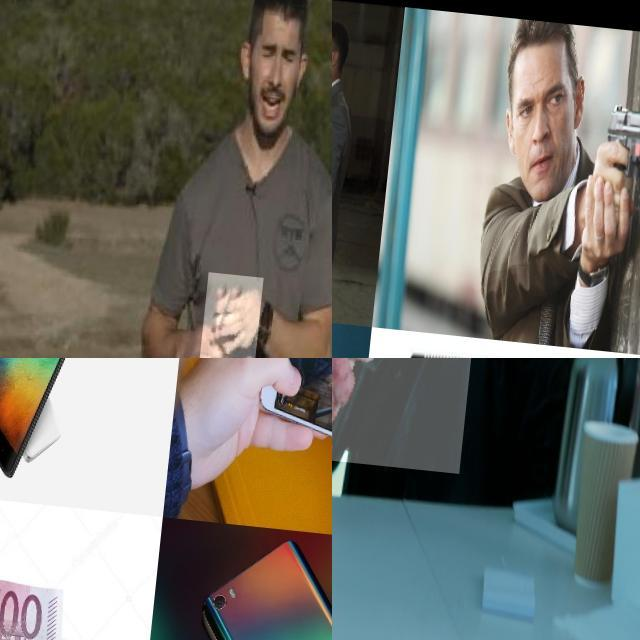-: (202, 266, 270, 358)
gun-knife-thesis - v11 Yolov5 augmented: (332, 358, 483, 470), (592, 82, 640, 234), (332, 51, 355, 110)
